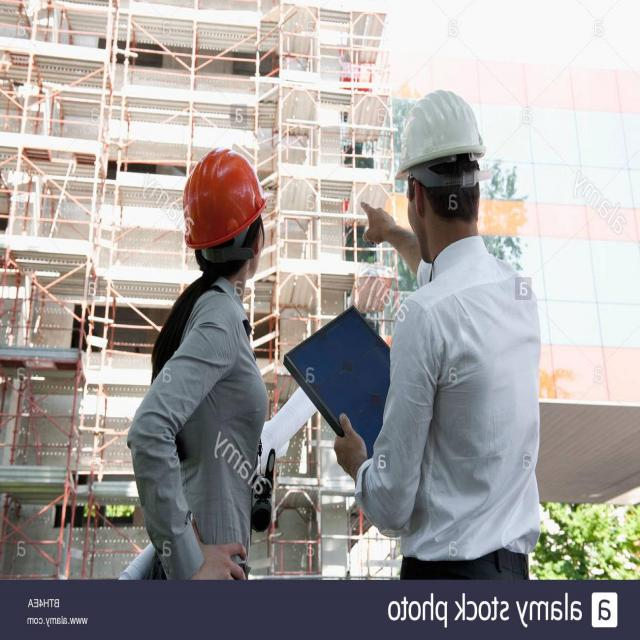Safety-Helmet: (178, 140, 270, 250), (390, 84, 491, 180)
